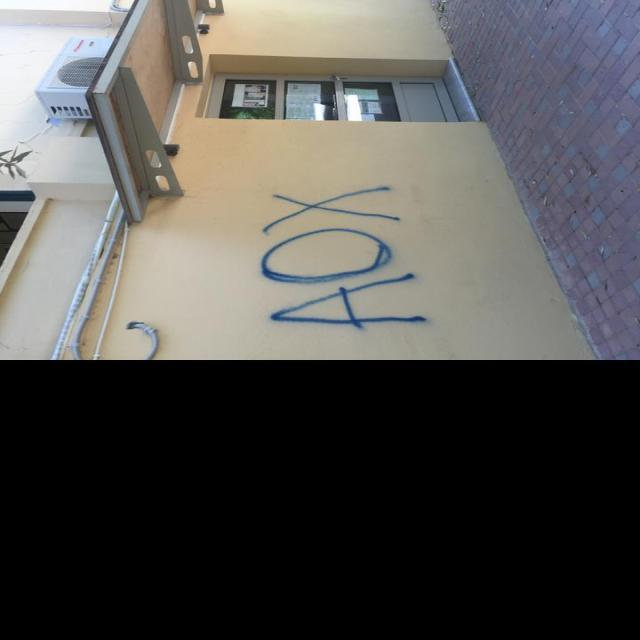nonspitting: (262, 185, 428, 330)
